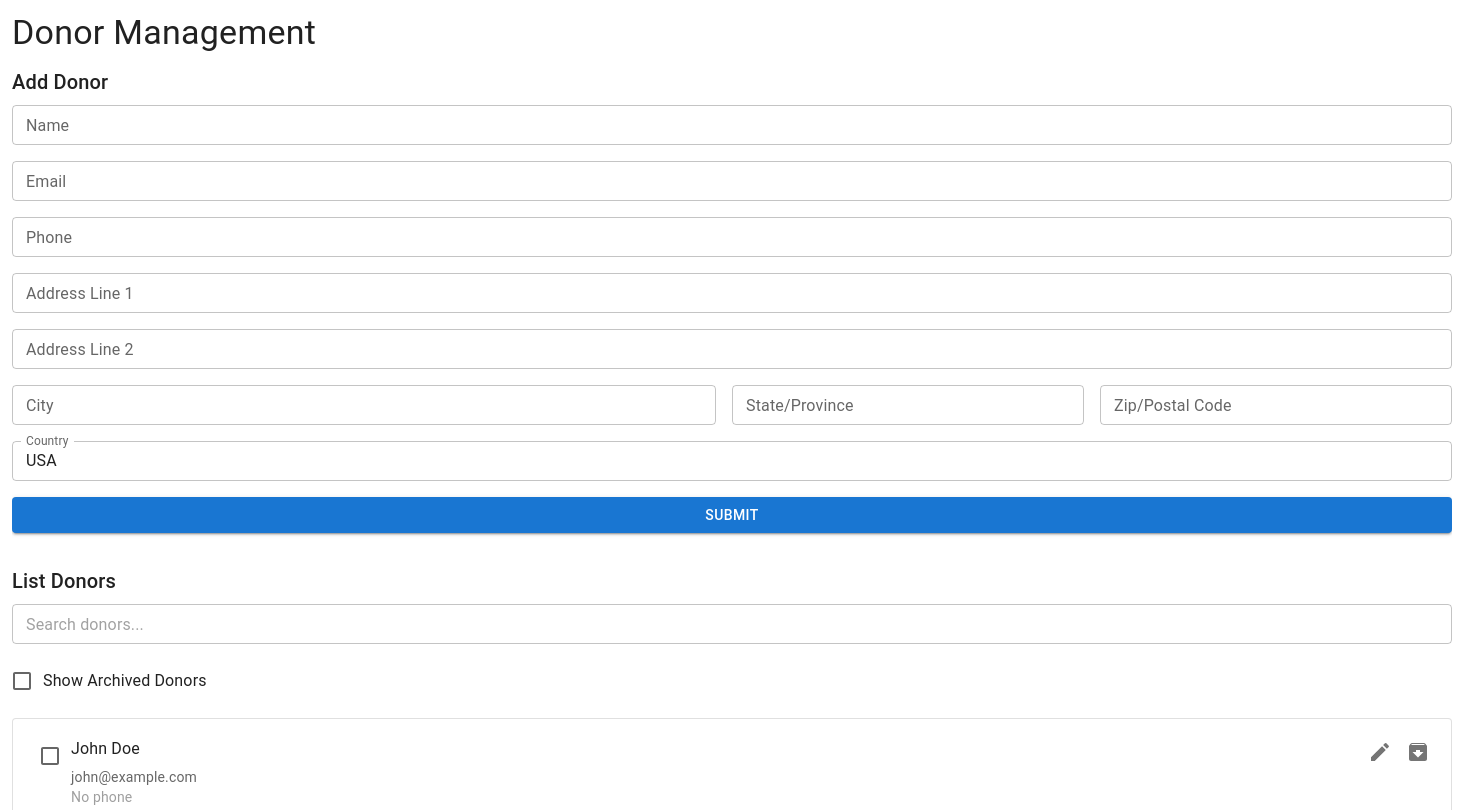
Test case: DonorsPage › Archive error handling › displays generic error message when API error has no details
Expected: the text "John Doe" is shown, [71, 735, 140, 763]
Click archive button
Step 1. Click the button named "archive" → click(1418, 752), box [1401, 735, 1435, 769]
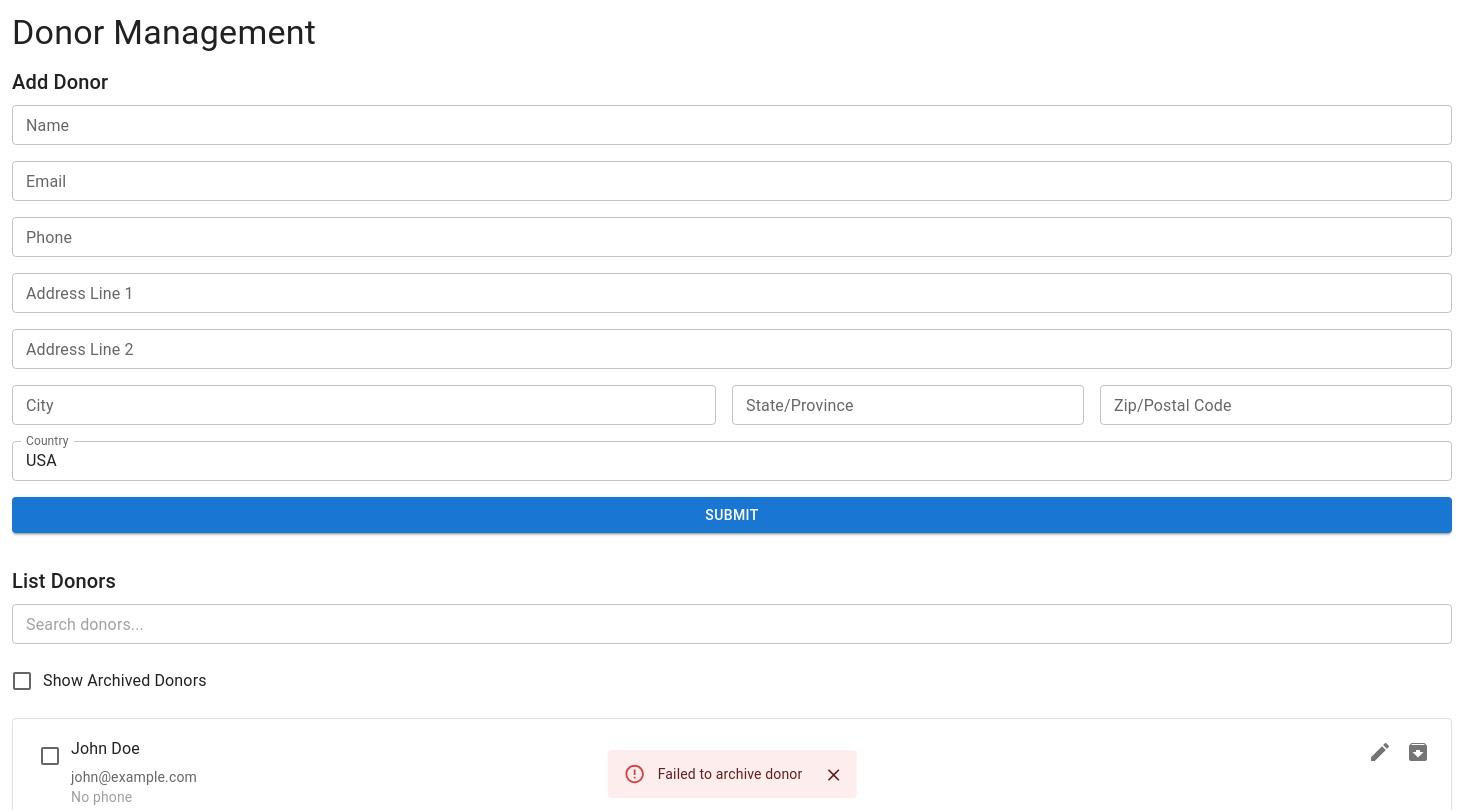
Expected: the text "Failed to archive donor" is shown, [658, 766, 802, 782]
